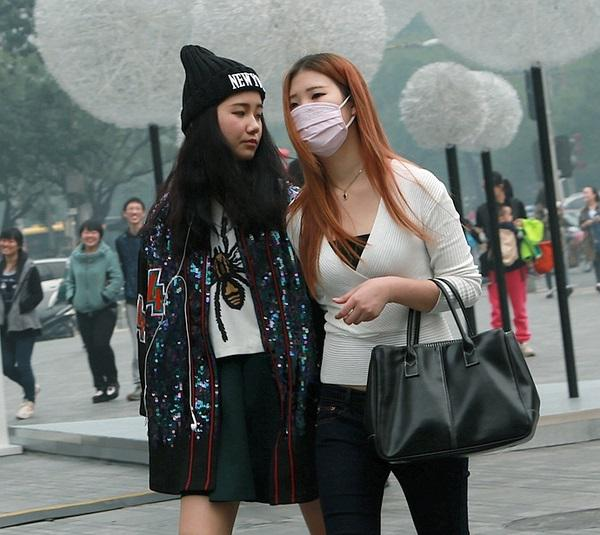NONE: (216, 102, 270, 162), (1, 238, 18, 256), (84, 230, 101, 247), (128, 206, 144, 223), (583, 188, 593, 204)
OK: (286, 81, 361, 156)
